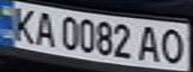0: (54, 14, 81, 52), (75, 16, 96, 54)
2: (112, 20, 136, 61)
8: (93, 19, 115, 56)
A: (30, 9, 60, 47), (136, 24, 163, 63)
K: (6, 3, 42, 44)
O: (157, 26, 190, 65)
